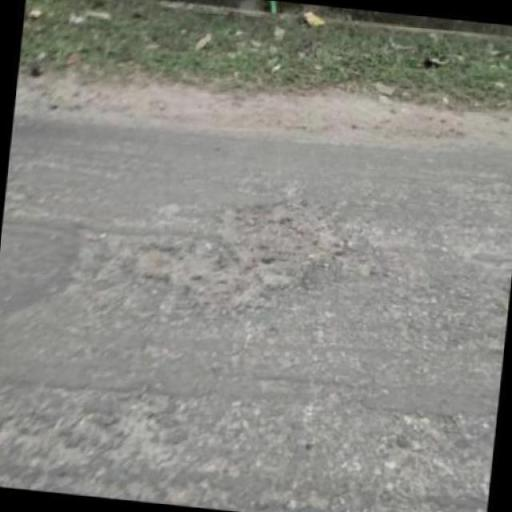pothole: (67, 176, 409, 430)
